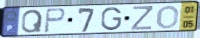7: (78, 7, 95, 33)
G: (100, 6, 124, 32)
O: (155, 5, 180, 30)
P: (43, 7, 68, 34)
Q: (20, 9, 44, 34)
Z: (130, 5, 155, 31)
